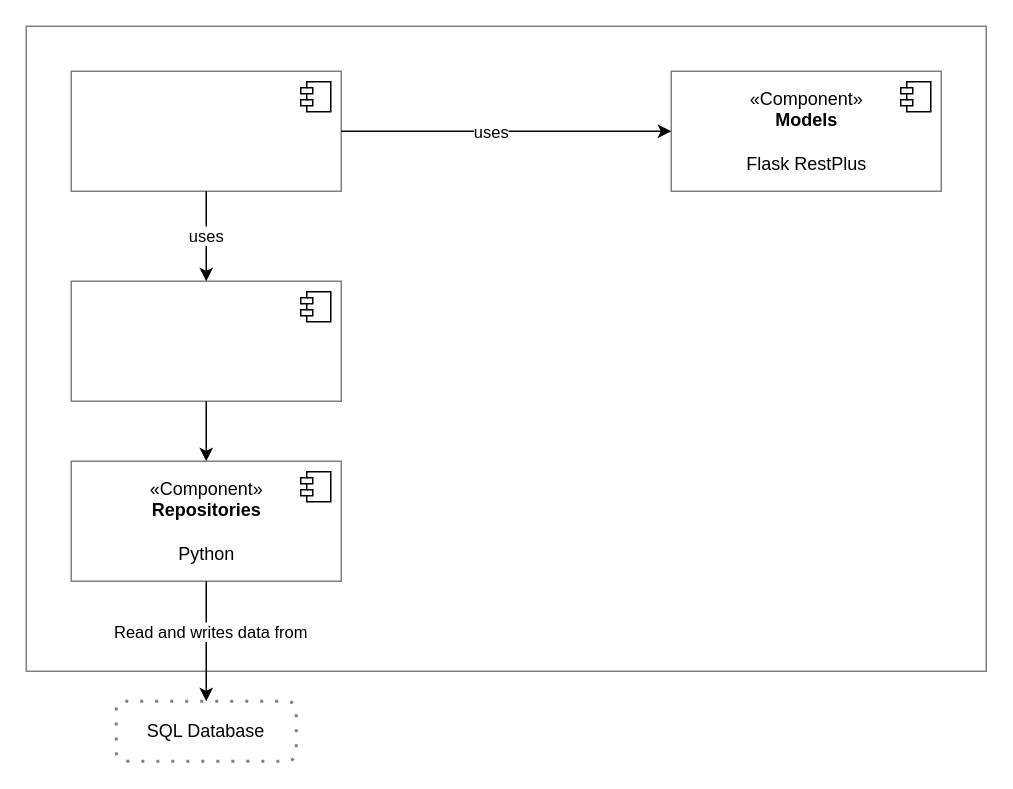
Image size: 1013x789. Some labels were removed from this diagram. The centre of each missing label's shape, as x and y in pixels:
"«Component» End Points Flask RestPlus" goes at point (205, 130).
"«Component» Services Python" goes at point (205, 340).
